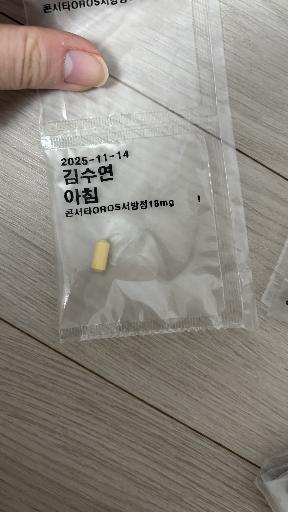Concerta: (24, 0, 257, 342), (91, 240, 110, 272)
